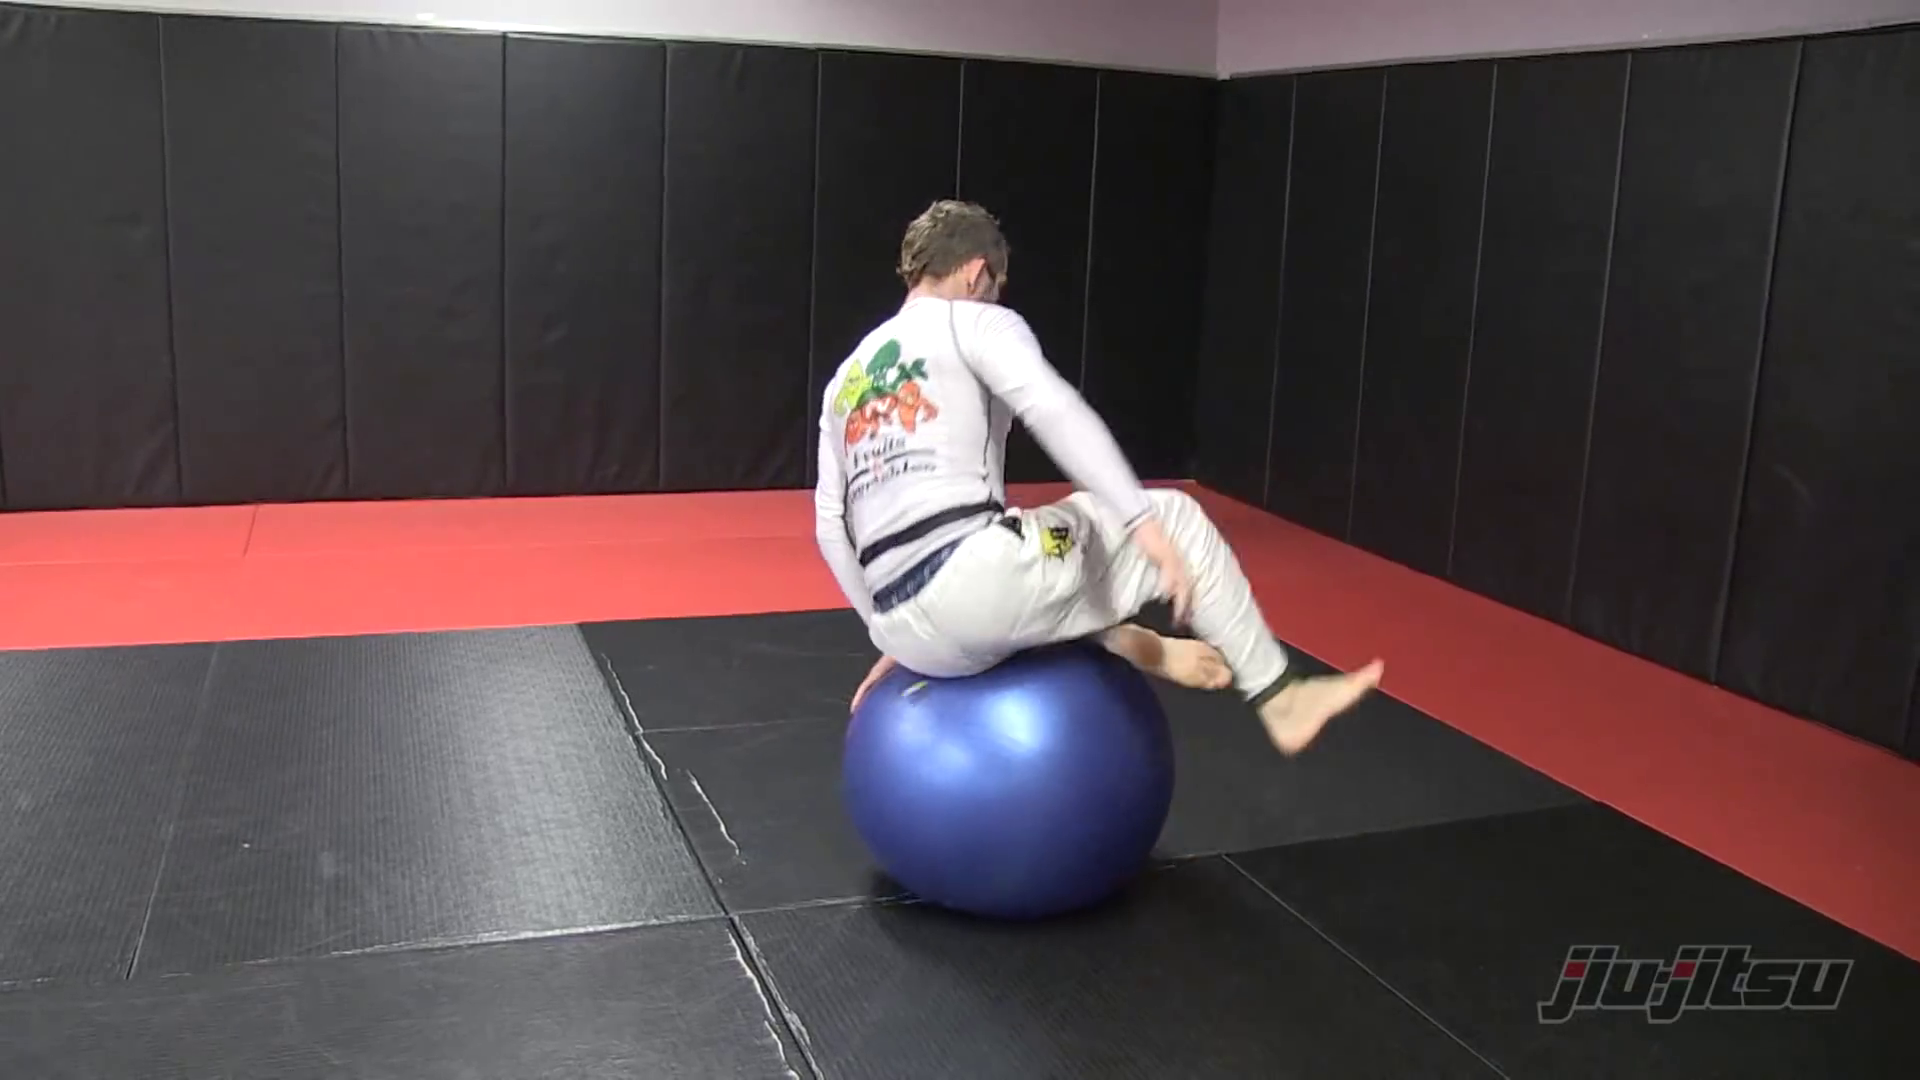yogaball: (827, 626, 1207, 938)
